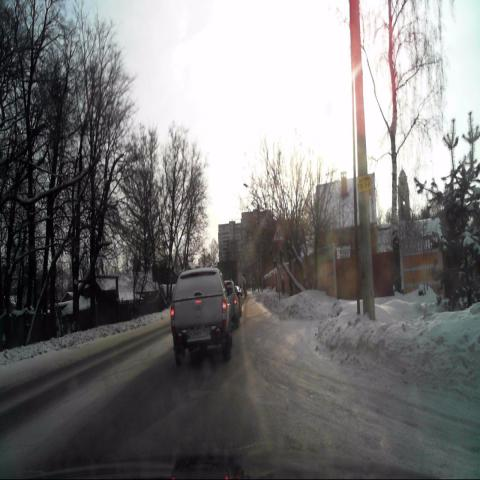1_23: (272, 222, 284, 243)
